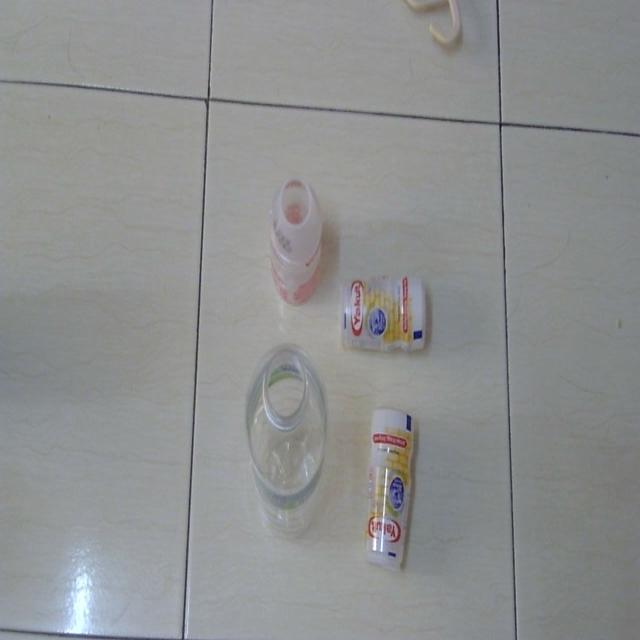plastic_laydown_0rotation: (340, 263, 433, 357)
plastic_laydown_90rotation: (358, 398, 424, 580)
plastic_standrotation: (237, 334, 334, 542), (268, 168, 328, 309)
